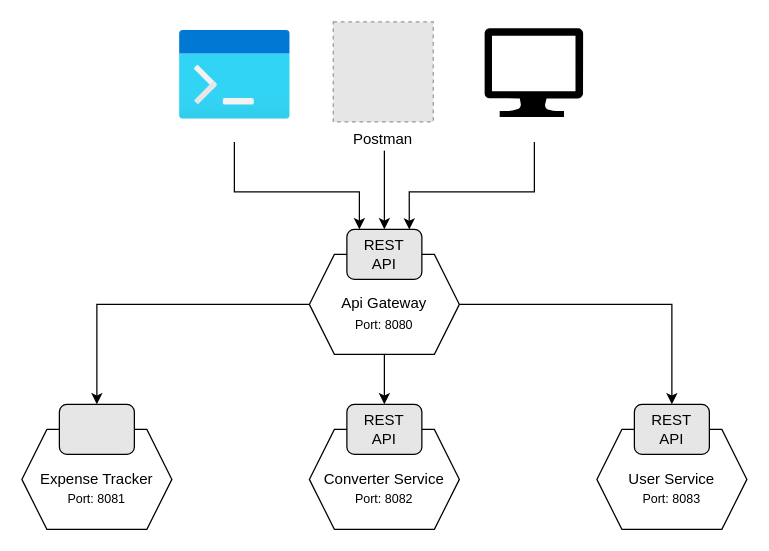
This 769x551 diagram has some shape labels left out. Grey dashed boxes stand in for pictures. Here are the shapes that lost their labels. From the top down, the centre of each, then its label:
At pixel 234 74: "Terminal".
At pixel 533 72: "Swagger UI Website".
At pixel 96 428: "GraphQL API".
